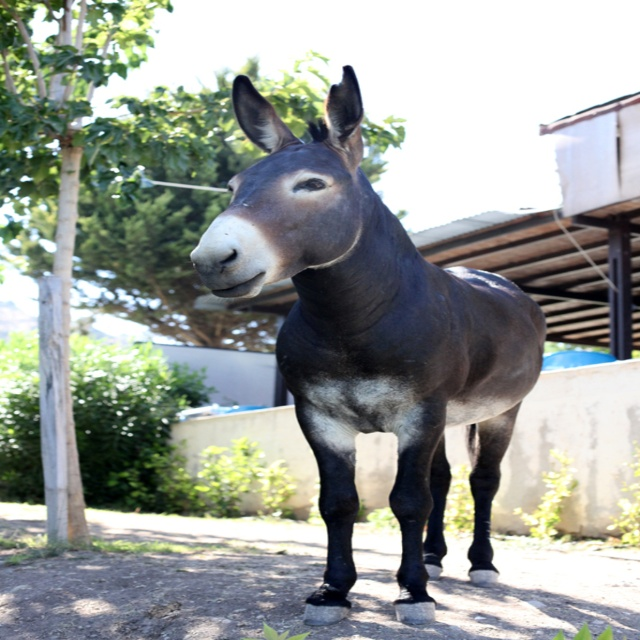Mule: (190, 64, 546, 626)
